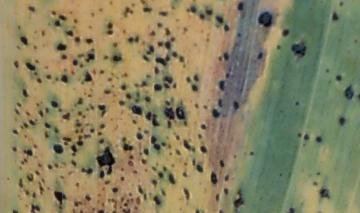tarspot: (97, 146, 115, 174), (292, 41, 306, 57), (259, 11, 272, 28), (234, 189, 245, 208), (54, 189, 66, 205), (163, 106, 175, 121), (150, 112, 161, 127), (176, 105, 187, 120), (344, 85, 354, 101), (107, 197, 118, 210), (53, 142, 64, 154), (131, 104, 143, 115), (320, 187, 331, 199), (97, 104, 107, 117), (154, 56, 167, 66), (209, 170, 218, 184), (145, 44, 155, 56), (183, 139, 193, 151), (80, 166, 93, 175), (182, 187, 191, 200), (167, 172, 176, 185), (232, 98, 240, 112), (122, 142, 133, 152), (198, 144, 209, 154), (214, 14, 225, 24), (24, 62, 36, 71), (38, 180, 45, 195), (122, 5, 130, 18), (235, 1, 245, 11), (56, 42, 67, 51), (84, 71, 93, 82), (144, 110, 153, 121), (152, 83, 163, 92), (212, 107, 221, 118), (30, 204, 41, 213), (157, 10, 170, 17), (19, 36, 29, 45), (222, 51, 231, 61), (22, 149, 33, 157), (163, 26, 171, 37), (331, 11, 339, 22), (223, 22, 231, 33), (159, 186, 167, 197), (153, 195, 161, 206), (141, 6, 153, 13), (219, 79, 226, 91), (86, 53, 95, 62), (177, 54, 186, 63), (164, 74, 173, 83), (60, 74, 68, 84), (150, 134, 158, 144), (174, 146, 182, 156), (138, 183, 144, 196), (61, 135, 72, 142), (164, 51, 171, 62), (65, 30, 74, 38), (13, 107, 21, 116), (70, 144, 78, 153), (256, 51, 264, 60), (281, 29, 290, 37), (153, 66, 161, 75), (335, 73, 343, 82), (196, 163, 204, 172), (198, 122, 207, 130), (190, 5, 198, 14), (25, 173, 34, 181), (58, 14, 68, 21), (104, 29, 114, 36), (218, 159, 225, 169), (112, 55, 122, 62), (143, 147, 150, 157), (18, 177, 24, 188), (164, 42, 172, 50), (143, 95, 151, 103), (164, 99, 172, 107), (163, 82, 171, 90), (185, 76, 193, 84), (181, 25, 189, 33), (157, 171, 165, 179), (111, 185, 119, 193), (53, 20, 62, 27), (85, 37, 94, 44), (38, 110, 45, 119), (43, 130, 50, 139), (63, 112, 70, 121), (117, 99, 126, 106), (141, 55, 150, 62), (152, 143, 161, 150), (339, 117, 346, 126), (193, 73, 200, 82), (134, 33, 140, 43), (217, 98, 223, 108), (204, 9, 214, 15), (13, 60, 20, 68), (36, 77, 43, 85), (22, 89, 29, 97), (22, 121, 29, 129), (112, 41, 119, 49), (77, 97, 84, 105), (87, 102, 95, 109), (98, 170, 105, 178), (156, 40, 164, 47), (140, 80, 148, 87), (133, 81, 140, 89), (136, 132, 144, 139), (140, 158, 148, 165), (156, 21, 164, 28), (303, 133, 310, 141), (198, 12, 205, 20), (222, 187, 229, 195), (223, 173, 230, 181), (151, 179, 159, 186), (84, 194, 92, 201), (28, 119, 37, 125), (53, 125, 59, 134), (83, 133, 92, 139), (136, 196, 142, 205), (45, 74, 52, 81), (51, 100, 58, 107), (43, 106, 50, 113), (44, 122, 51, 129), (62, 140, 69, 147), (89, 127, 96, 134), (98, 137, 105, 144), (120, 84, 127, 91), (149, 29, 156, 36), (127, 160, 134, 167), (143, 128, 150, 135), (174, 133, 181, 140), (193, 102, 200, 109), (191, 84, 198, 91), (182, 171, 189, 178), (34, 169, 41, 176), (73, 200, 80, 207), (39, 29, 45, 37), (73, 36, 81, 42), (72, 58, 78, 66), (11, 129, 19, 135), (107, 21, 113, 29), (11, 145, 17, 153), (71, 159, 77, 167), (75, 140, 83, 146), (104, 88, 112, 94), (122, 70, 128, 78), (172, 50, 178, 58), (135, 90, 141, 98), (174, 15, 180, 23), (311, 180, 319, 186), (24, 188, 30, 196), (192, 40, 198, 48), (76, 53, 85, 58), (192, 157, 197, 166), (166, 119, 171, 128), (143, 192, 148, 201), (122, 208, 131, 213), (31, 190, 36, 199), (29, 6, 36, 12), (15, 44, 21, 51), (33, 58, 40, 64), (32, 44, 38, 51), (60, 54, 67, 60), (87, 24, 94, 30), (89, 11, 95, 18), (70, 70, 77, 76), (32, 142, 38, 149), (46, 164, 53, 170), (56, 107, 63, 113), (249, 150, 255, 157), (86, 93, 93, 99), (99, 123, 106, 129), (294, 100, 301, 106), (275, 44, 282, 50), (128, 36, 134, 43), (151, 165, 157, 172), (160, 141, 167, 147), (316, 136, 322, 143), (197, 132, 203, 139), (183, 120, 189, 127), (202, 104, 209, 110), (172, 82, 178, 89), (217, 55, 223, 62), (287, 207, 294, 213), (132, 169, 139, 175), (104, 179, 111, 185), (59, 175, 66, 181), (67, 170, 74, 176), (16, 25, 22, 31), (51, 10, 57, 16), (73, 18, 79, 24), (25, 110, 31, 116), (19, 160, 25, 166), (36, 162, 42, 168), (54, 163, 60, 169), (97, 130, 103, 136), (170, 36, 176, 42), (126, 93, 132, 99), (131, 118, 137, 124), (353, 38, 359, 44), (297, 132, 303, 138), (182, 160, 188, 166), (168, 143, 174, 149), (232, 153, 238, 159), (185, 8, 191, 14), (96, 209, 105, 213), (215, 23, 221, 29), (74, 127, 79, 134), (78, 134, 83, 141), (145, 74, 152, 79), (128, 155, 135, 160), (162, 165, 167, 172), (225, 72, 230, 79), (170, 5, 177, 10), (205, 38, 212, 43), (215, 195, 220, 202), (120, 195, 125, 202), (102, 202, 107, 209), (96, 192, 103, 197), (18, 164, 23, 171), (198, 28, 205, 33), (110, 70, 115, 77), (122, 27, 126, 35), (80, 126, 84, 134), (11, 209, 19, 213), (54, 77, 60, 82), (17, 101, 22, 107), (43, 65, 49, 70), (62, 67, 68, 72), (103, 55, 109, 60), (22, 134, 28, 139), (121, 137, 127, 142), (339, 1, 344, 7), (168, 151, 174, 156), (165, 135, 171, 140), (237, 32, 242, 38), (278, 172, 283, 178), (120, 176, 126, 181), (128, 192, 134, 197), (80, 80, 86, 85), (75, 122, 82, 126), (107, 77, 114, 81), (76, 181, 80, 188), (137, 1, 146, 4), (35, 102, 40, 107), (79, 63, 84, 68), (90, 48, 95, 53), (98, 7, 103, 12), (108, 1, 113, 6), (129, 10, 134, 15), (131, 2, 136, 7), (120, 167, 125, 172), (138, 151, 143, 156), (325, 68, 330, 73), (129, 197, 134, 202), (71, 153, 77, 157), (99, 70, 105, 74), (78, 110, 82, 116), (182, 63, 186, 69), (144, 167, 148, 173), (218, 209, 224, 213), (133, 206, 139, 210), (7, 175, 11, 181), (79, 209, 85, 213), (33, 72, 38, 76), (69, 10, 73, 15), (76, 118, 80, 123), (137, 127, 142, 131), (135, 98, 139, 103), (196, 209, 201, 213), (124, 203, 129, 207), (58, 206, 63, 210), (47, 186, 51, 191), (109, 117, 114, 121), (315, 172, 321, 175), (82, 115, 86, 119), (358, 92, 360, 100), (85, 108, 90, 111), (171, 164, 175, 167), (112, 210, 116, 213)
